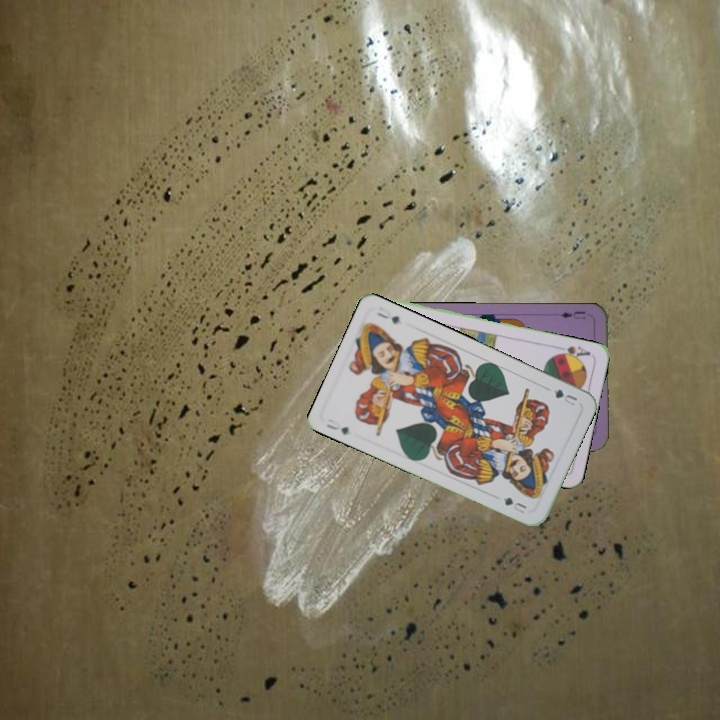EU: (557, 307, 588, 321)
GU: (549, 385, 580, 408), (322, 415, 352, 437)
SA: (552, 342, 593, 362)
